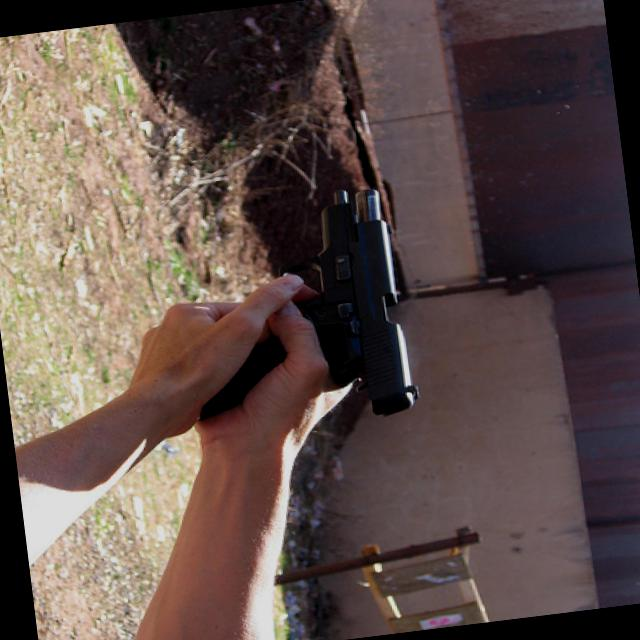handgun: (170, 178, 422, 436)
